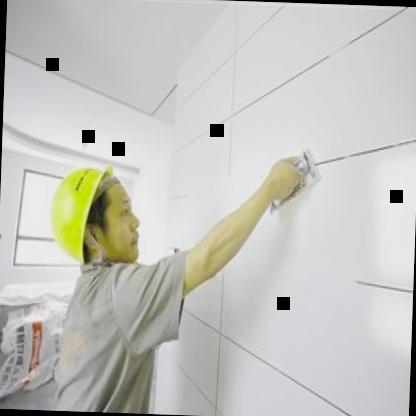helmet: (37, 156, 151, 283)
